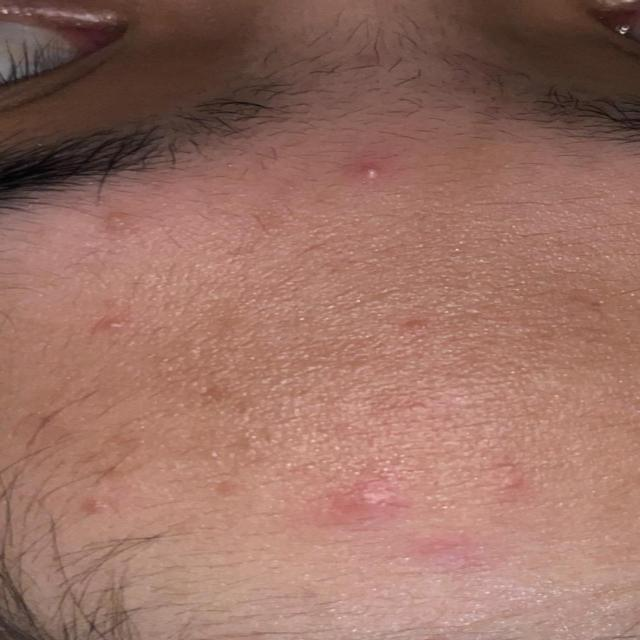papule: (256, 441, 562, 613)
pustule: (81, 300, 166, 361), (337, 153, 394, 186)
